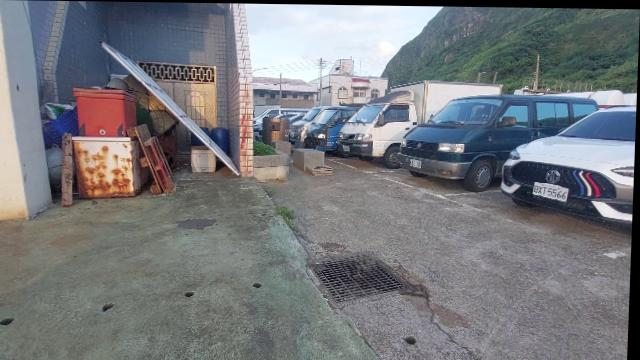pollute: (72, 75, 179, 199), (39, 101, 76, 147), (200, 125, 231, 154), (61, 135, 73, 205), (190, 144, 219, 172), (47, 148, 65, 183)
